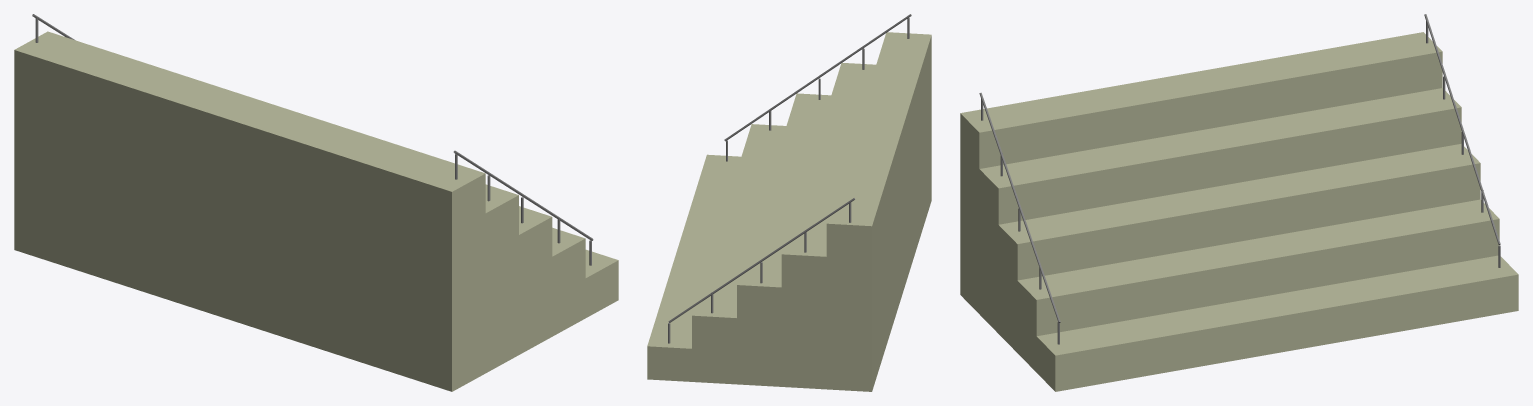
Rendered from BandStandSeating.fbx.
3 renders of one model, left to right at view 1: azimuth 30°, elevation 25°; view 2: azimuth 150°, elevation 25°; view 3: azimuth 270°, elevation 25°, orthographic. The views are drawn at different scales.
Visible parts, largest first — view 1: Cube.001; view 2: Cube.001; view 3: Cube.001.
Boxes of the visible parts, <box> form: Cube.001: <box>14,14,618,391</box>; Cube.001: <box>647,14,931,391</box>; Cube.001: <box>960,14,1518,391</box>.
Bounding box in the file's own units: 841 × 460 × 1114.
